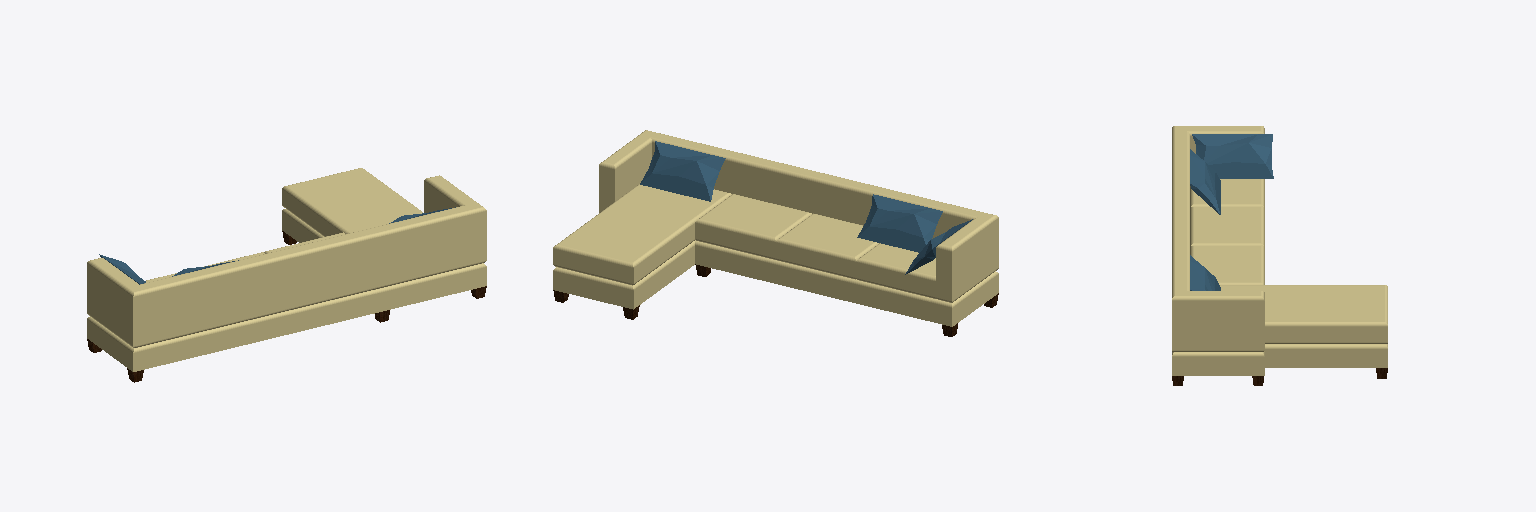
3 views of the same model, side by side, from view 1: azimuth 30°, elevation 25°; view 2: azimuth 150°, elevation 25°; view 3: azimuth 270°, elevation 25° (orthographic).
Parts seen in each view (by area): view 1: mesh3_mesh3-geometry, mesh6_mesh6-geometry, mesh4_mesh4-geometry, mesh1_mesh1-geometry, mesh2_mesh2-geometry; view 2: mesh3_mesh3-geometry, mesh5_mesh5-geometry, mesh6_mesh6-geometry, mesh4_mesh4-geometry, mesh2_mesh2-geometry, mesh1_mesh1-geometry; view 3: mesh3_mesh3-geometry, mesh4_mesh4-geometry, mesh5_mesh5-geometry, mesh6_mesh6-geometry, mesh2_mesh2-geometry.
Boxes of the visible parts, box(x1,y1,x2,y2) form: mesh3_mesh3-geometry: box(87, 175, 486, 347); mesh6_mesh6-geometry: box(87, 209, 486, 371); mesh4_mesh4-geometry: box(282, 168, 422, 236); mesh1_mesh1-geometry: box(87, 231, 486, 382); mesh2_mesh2-geometry: box(99, 207, 455, 284); mesh3_mesh3-geometry: box(599, 130, 998, 302); mesh5_mesh5-geometry: box(695, 194, 936, 298); mesh6_mesh6-geometry: box(553, 240, 998, 326); mesh4_mesh4-geometry: box(553, 184, 731, 285); mesh2_mesh2-geometry: box(640, 141, 972, 274); mesh1_mesh1-geometry: box(553, 264, 998, 336); mesh3_mesh3-geometry: box(1172, 126, 1264, 351); mesh4_mesh4-geometry: box(1220, 285, 1387, 343); mesh5_mesh5-geometry: box(1190, 179, 1264, 284); mesh6_mesh6-geometry: box(1172, 344, 1387, 375); mesh2_mesh2-geometry: box(1190, 134, 1273, 290).
Size of the model in its own units: 0.8639 by 0.2094 by 0.4581.
3 materials, 1 textured.